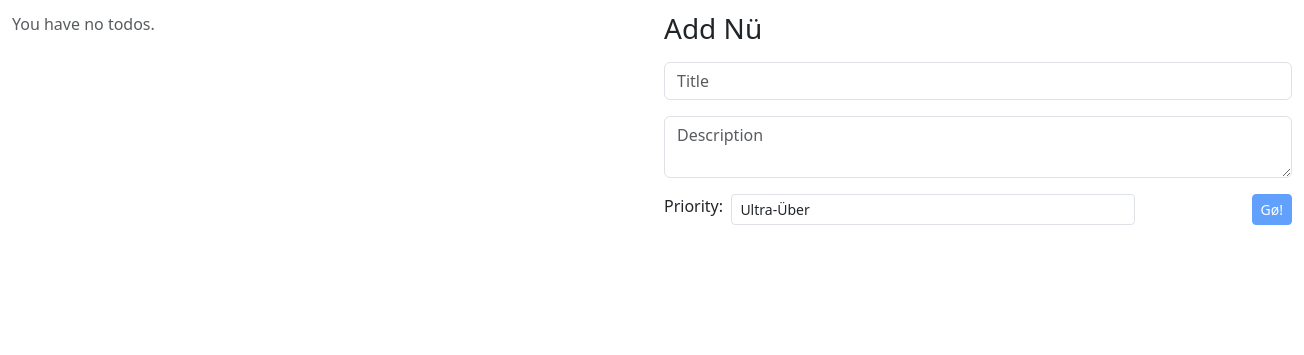
Test: TodoApp component › submitting new Todo form works
Type "test new" into the field named "title". click: (978, 81)
box: [664, 62, 1292, 100]
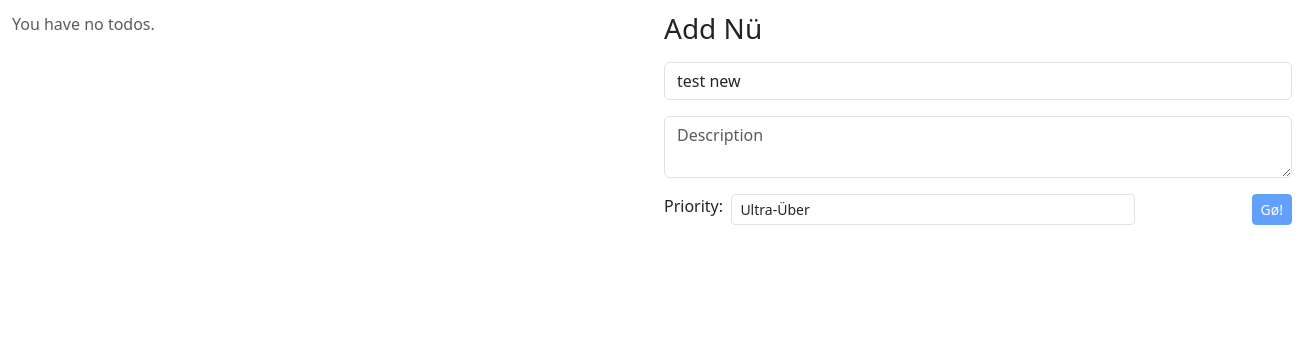
Type "test new description" into the text box named "description". click: (978, 147)
box: [664, 116, 1292, 178]
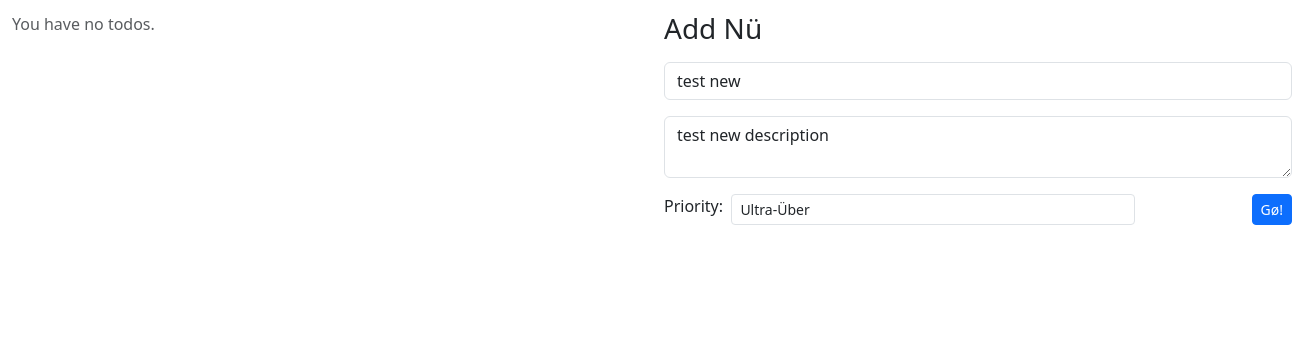
Select "Ultra-Über" in the dropdown named "priority". click: (933, 209)
box: [731, 194, 1135, 225]
Click the button with class "NewTodoForm-addBtn". click: (1272, 209)
box: [1252, 194, 1292, 225]
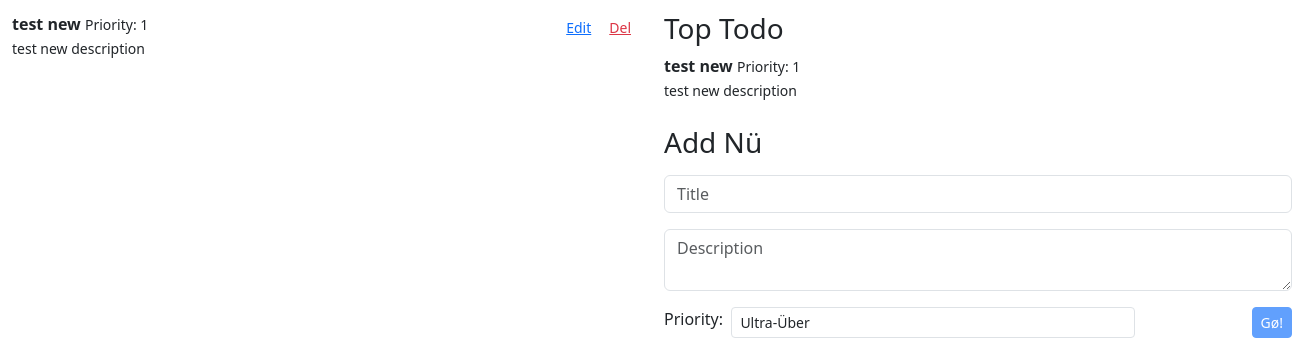
Expected: the text "test new description" is shown, [12, 39, 145, 58]
